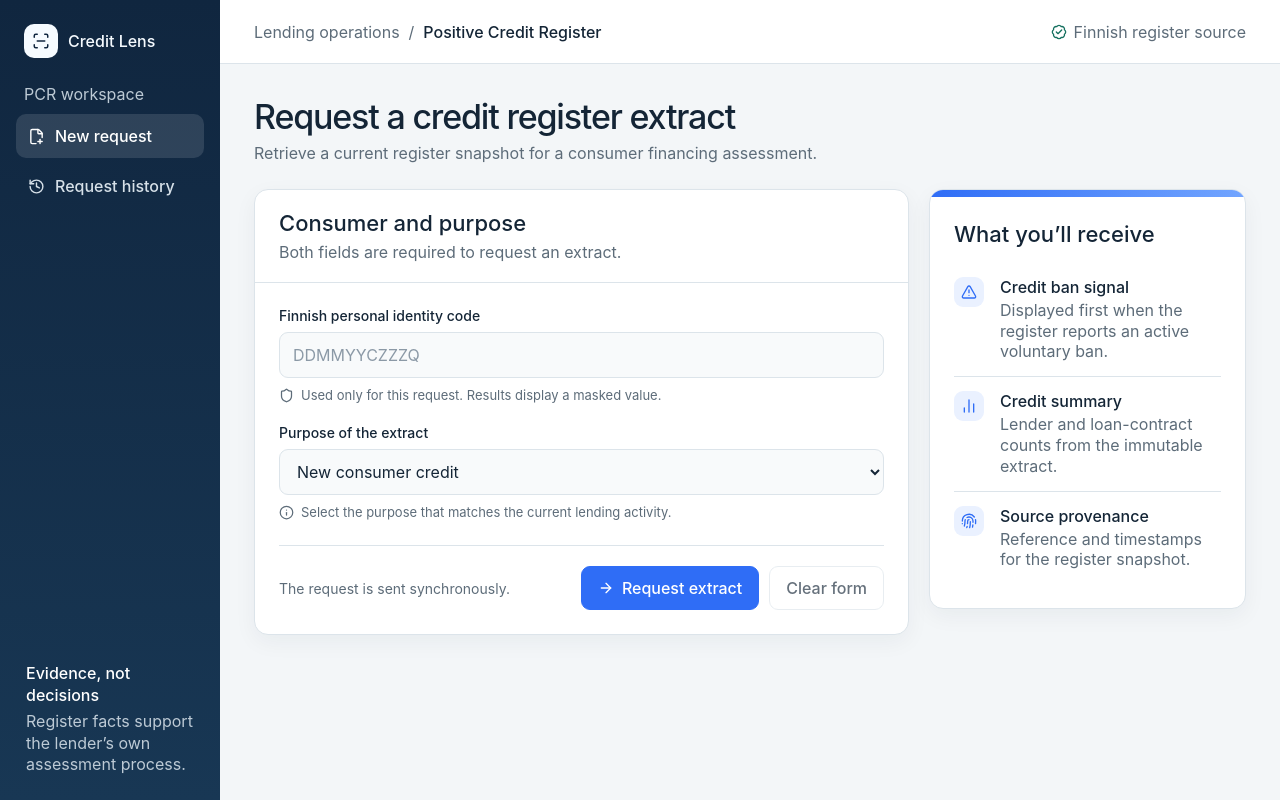
Test: Credit Lens workspace › keeps focus on the invalid field and explains how to fix it
Click the button "Request extract". click: click(670, 588)
box: [581,566,759,610]
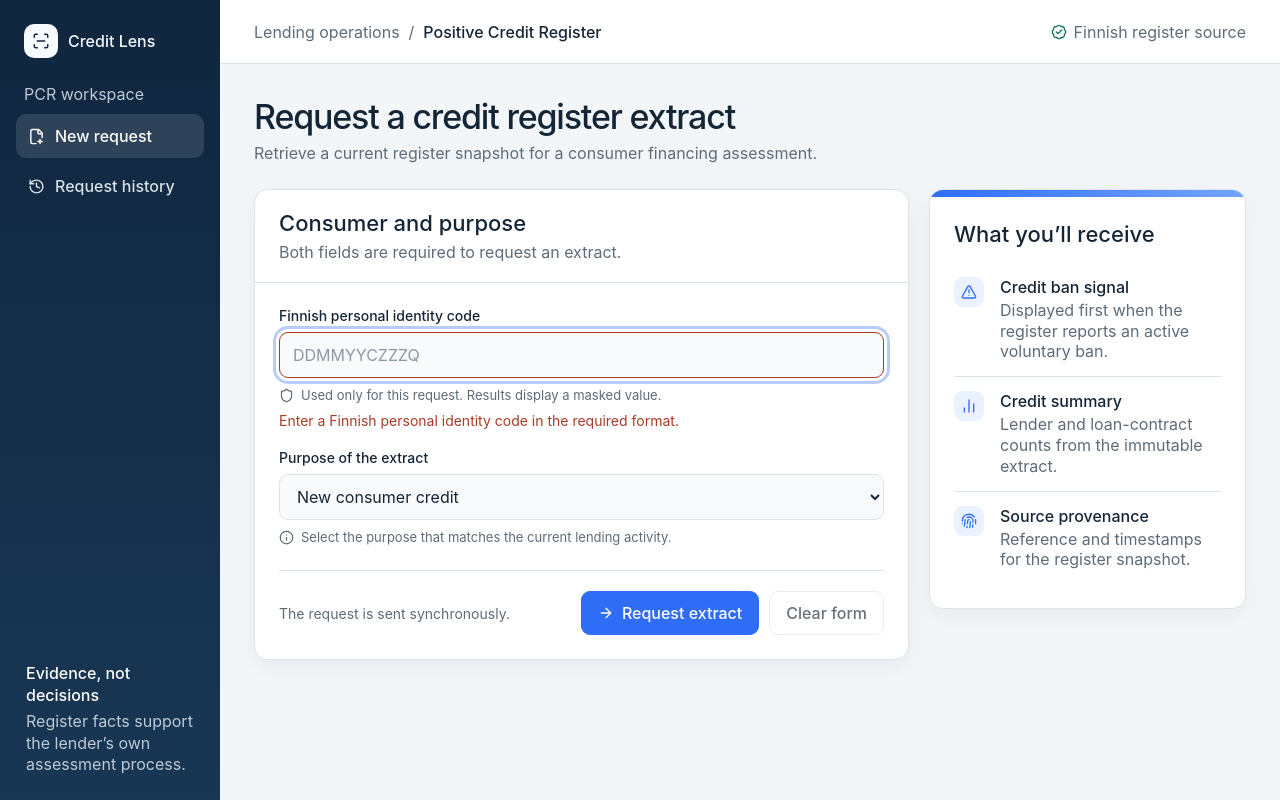
Expected: the field labelled "Finnish personal identity code" is empty, [279,332,884,378]
Now the message reads "Enter a Finnish personal identity code in the required format.", box [279,412,679,429]
Now the message shows "required format", box [279,412,679,429]
